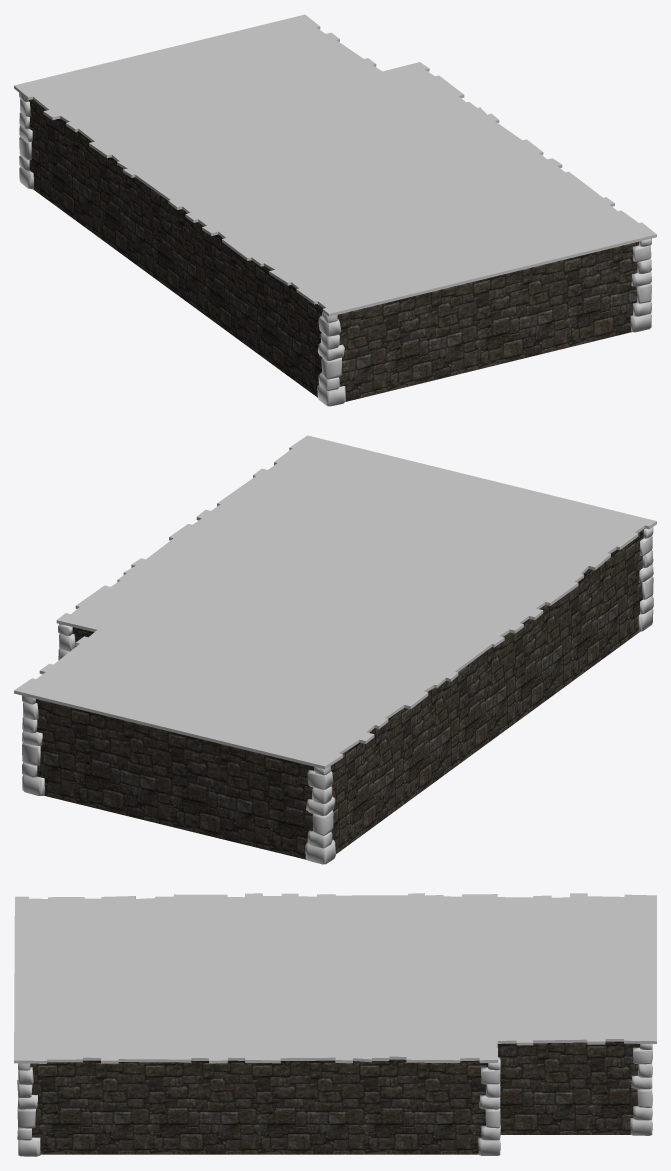
The model's file is Build8.fbx.
3 views of the same model, one above another, from view 1: azimuth 30°, elevation 25°; view 2: azimuth 150°, elevation 25°; view 3: azimuth 270°, elevation 25° (orthographic). The views are drawn at different scales.
Parts seen in each view (by area): view 1: polySurface3331; view 2: polySurface3331; view 3: polySurface3331.
Part boxes in pixels (x1,y1,x2,y2): polySurface3331: (14, 14, 656, 406); polySurface3331: (14, 435, 656, 864); polySurface3331: (14, 893, 656, 1156).
Size of the model in its own units: 13.36 by 3.66 by 21.62.
